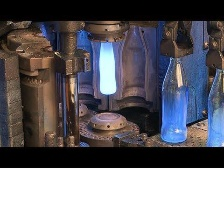bottle: (158, 51, 188, 145), (204, 66, 224, 146)
